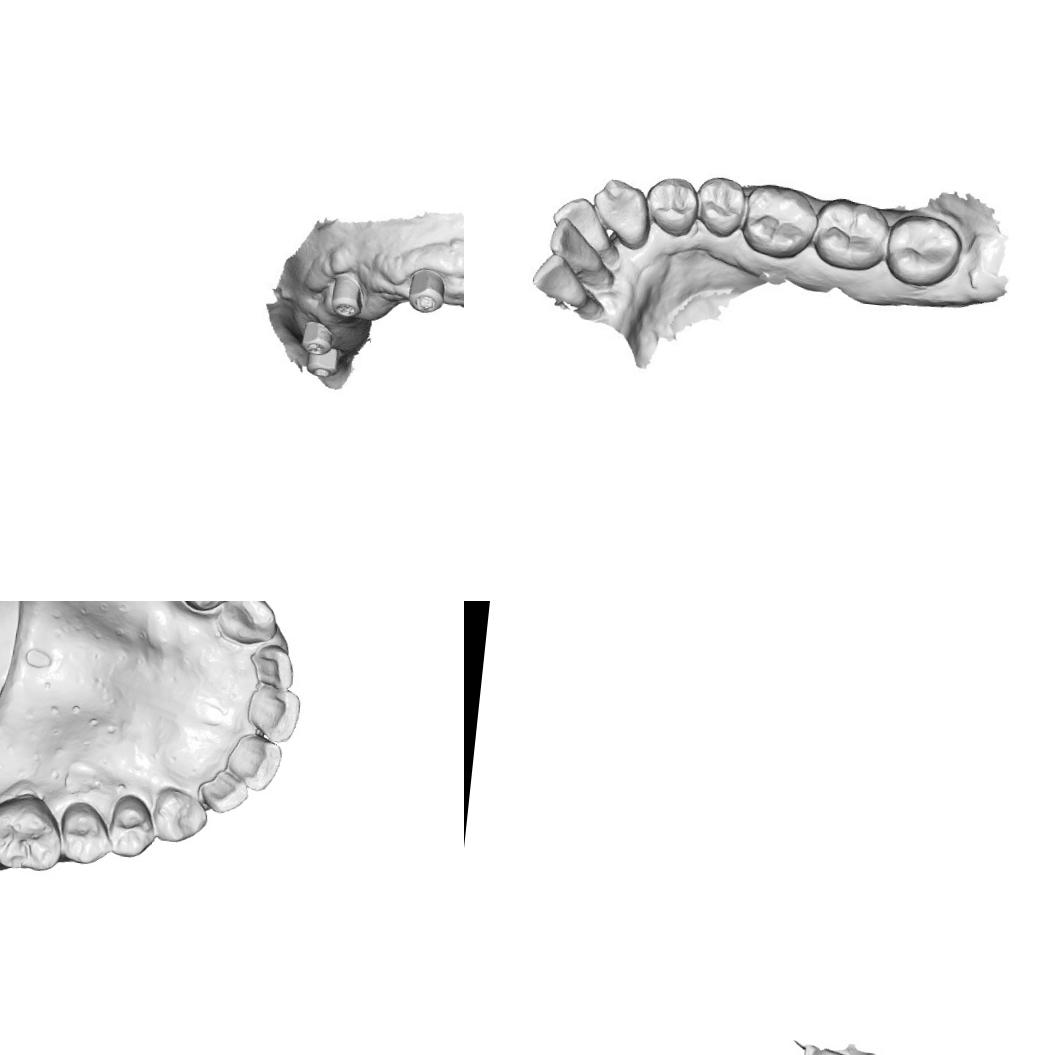canine: (591, 178, 654, 249), (150, 786, 210, 848), (214, 601, 283, 649)
implant: (322, 272, 370, 324), (403, 266, 450, 316), (294, 316, 334, 357), (302, 346, 342, 386)
incisor: (544, 214, 611, 280), (243, 679, 305, 748), (224, 731, 284, 795), (554, 196, 620, 253), (532, 256, 594, 312), (198, 769, 252, 818), (249, 640, 298, 689), (800, 1043, 850, 1055)
molar: (735, 180, 821, 265), (884, 210, 966, 290), (808, 196, 889, 275), (0, 790, 67, 874)
premolar: (55, 799, 114, 868), (639, 172, 698, 238), (103, 792, 157, 860), (695, 175, 751, 240), (179, 601, 246, 616)
